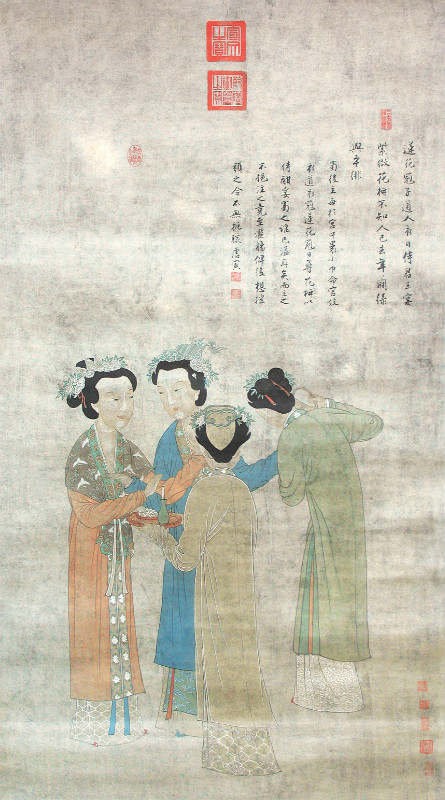decoration: (150, 348, 213, 363), (58, 364, 131, 376), (189, 411, 247, 425), (133, 511, 182, 524), (58, 378, 80, 397), (197, 366, 216, 383), (144, 364, 156, 380)
woman: (156, 370, 278, 769), (275, 384, 382, 713), (62, 366, 145, 742)
